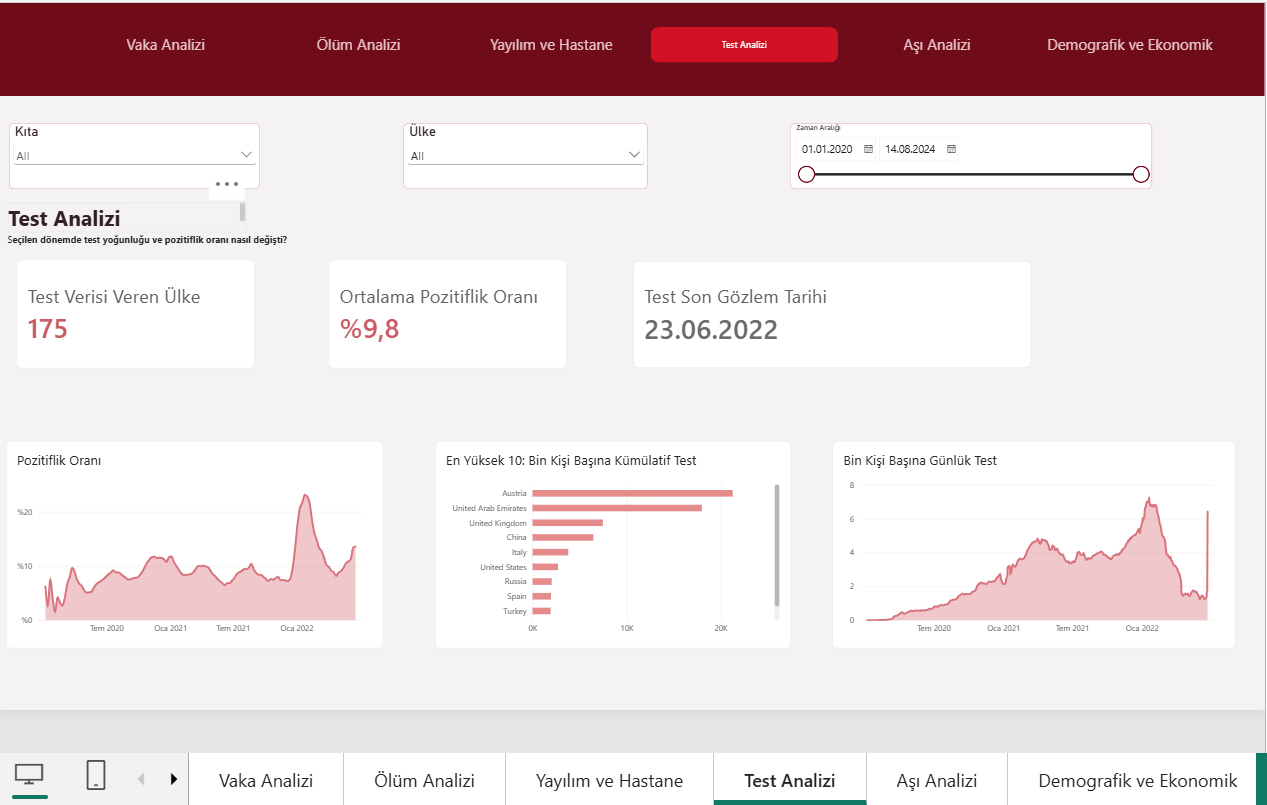

This screenshot's page, from the dashboard's own definition file:
{"tool":"powerbi","page":{"name":"Test analizi","canvas":[1920,1080],"ordinal":3},"visuals":[{"type":"shape","box":[0,0,1919.3,149.9],"z":0},{"type":"pageNavigator","box":[113.6,45.4,1744.4,54.5],"z":1000}]}

Visuals, with their boxes on the page's 1920x1080 design canvas (x1, y1, x2, y2). These are canvas units, not pixel positions in the 1267x805 screenshot, which may show the page scaled, cropped or inside an application window:
shape: rect(0, 0, 1919, 150)
pageNavigator: rect(114, 45, 1858, 100)
